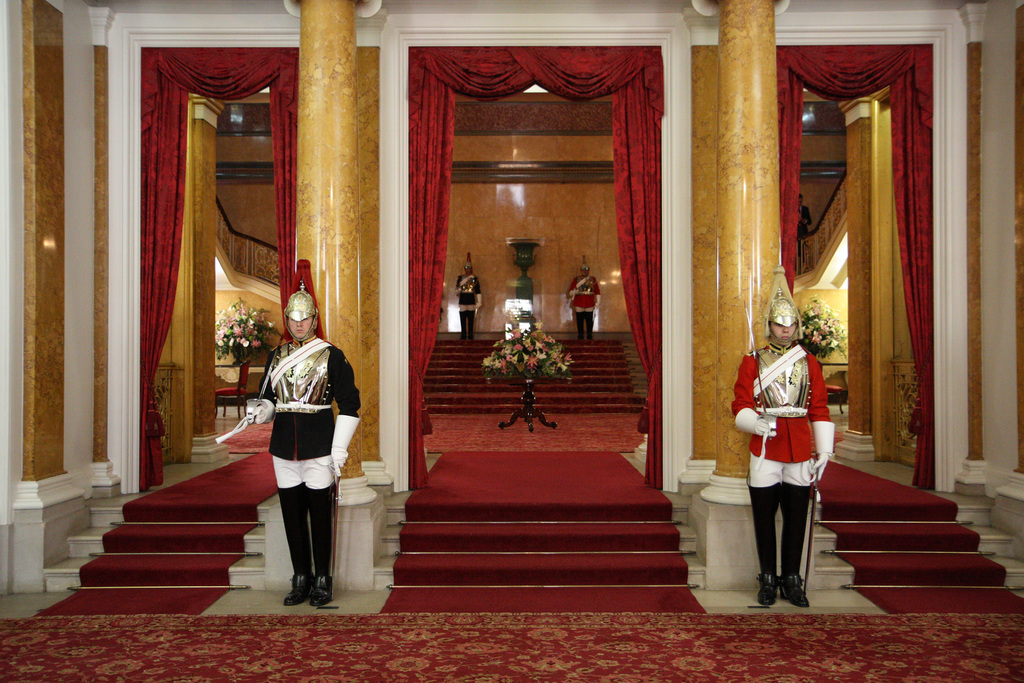Person: (247, 299, 368, 603), (731, 298, 840, 606), (454, 259, 491, 343), (565, 264, 605, 338)
